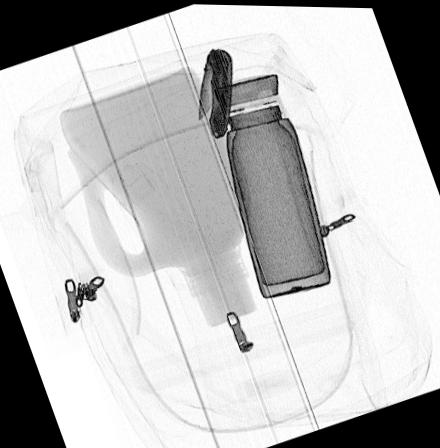Knife: (196, 45, 233, 139)
